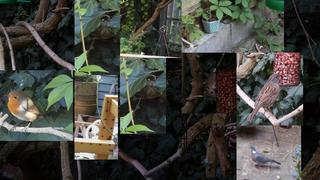dunnock: (247, 73, 283, 122)
mouse: (204, 73, 216, 98)
robin: (4, 90, 53, 135)
wood pigeon: (249, 146, 281, 168)
